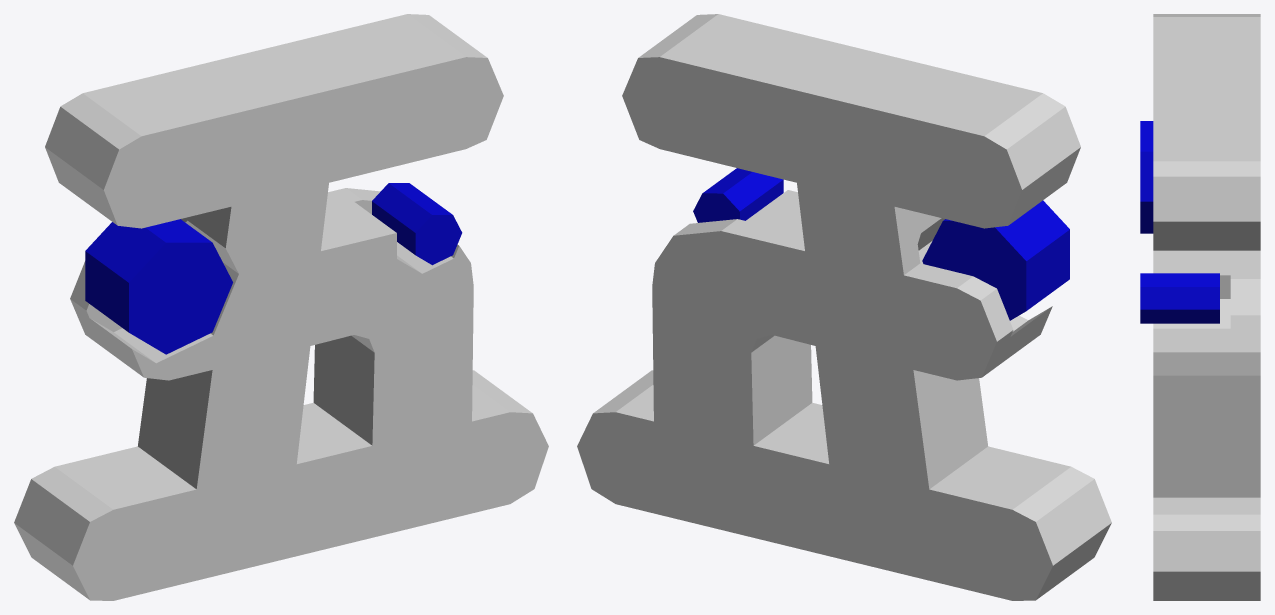
Rendered from Ch_Lite_China_五_01.fbx.
3 renders of one model, left to right at view 1: azimuth 30°, elevation 25°; view 2: azimuth 150°, elevation 25°; view 3: azimuth 270°, elevation 25°, orthographic. The views are drawn at different scales.
Parts seen in each view (by area): view 1: sphere1; view 2: sphere1; view 3: sphere1.
Boxes of the visible parts, box(x1,y1,x2,y2) form: sphere1: box(14, 14, 548, 600); sphere1: box(577, 14, 1111, 600); sphere1: box(1140, 14, 1260, 600).
Bounding box in the file's own units: 0.9336 × 0.8579 × 0.2242.
